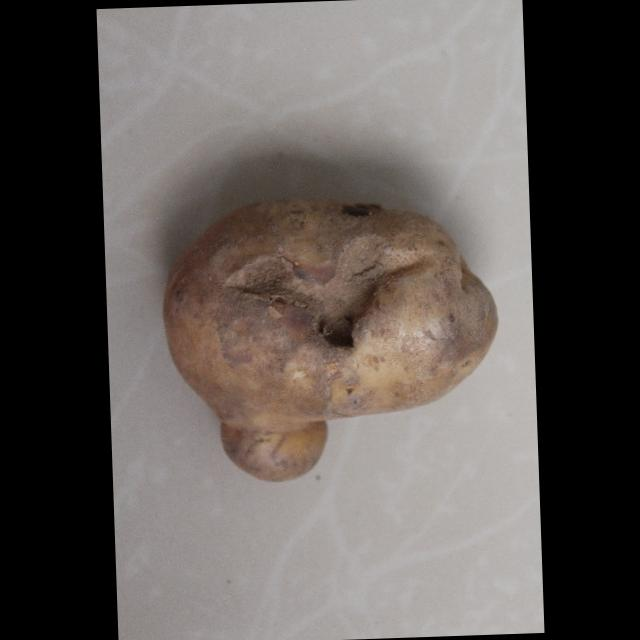Diseased-fungal potato: (155, 187, 504, 486)
